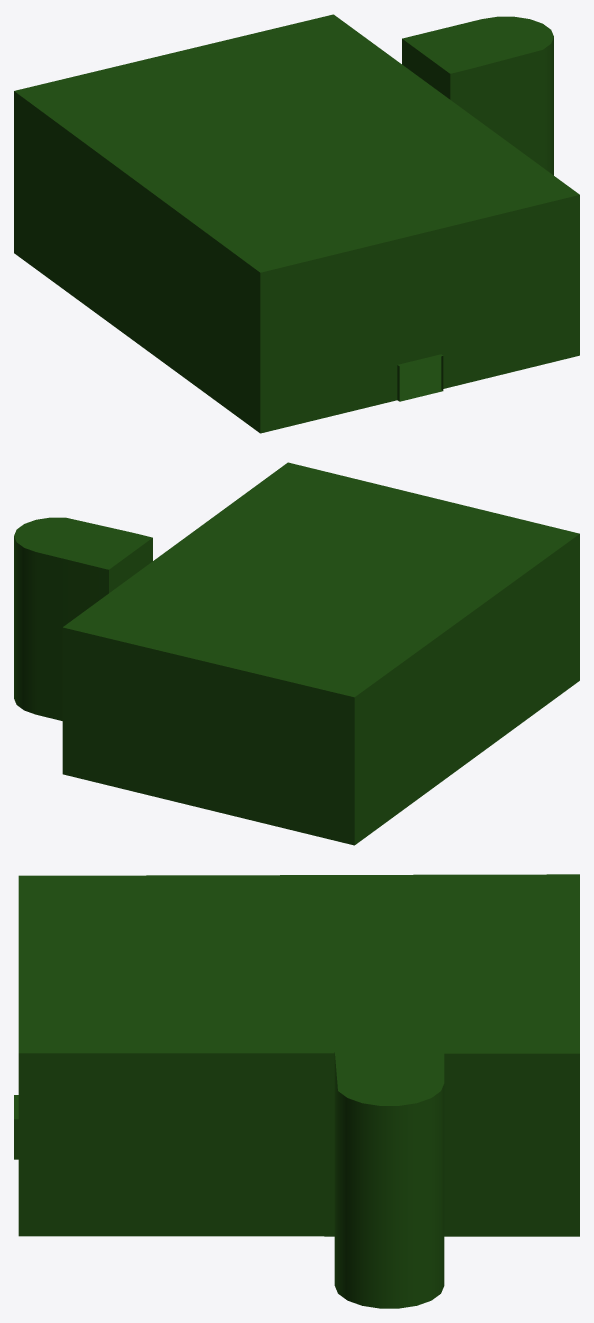
File: Zone8_Map.fbx
3 views of the same model, one above another, from view 1: azimuth 30°, elevation 25°; view 2: azimuth 150°, elevation 25°; view 3: azimuth 270°, elevation 25° (orthographic). The views are drawn at different scales.
Visible parts, largest first — view 1: Zone8MAP; view 2: Zone8MAP; view 3: Zone8MAP.
Boxes of the visible parts, left/top/right/bottom form: Zone8MAP: left=14, top=14, right=579, bottom=433; Zone8MAP: left=14, top=462, right=579, bottom=845; Zone8MAP: left=14, top=874, right=579, bottom=1308.
Size of the model in its own units: 2929 by 1109 by 2807.
